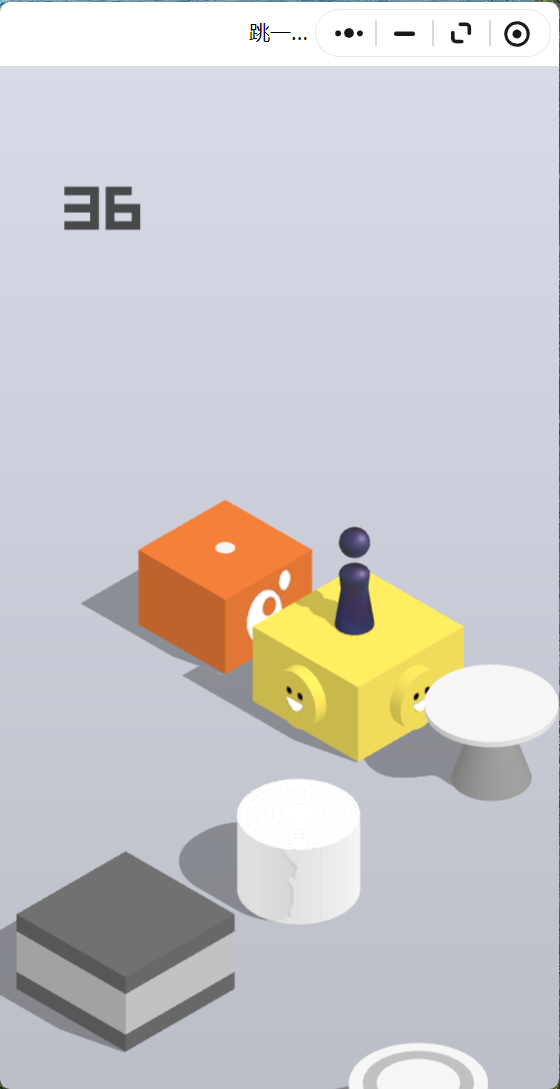piece: (339, 526, 370, 633)
target: (138, 500, 312, 598)
